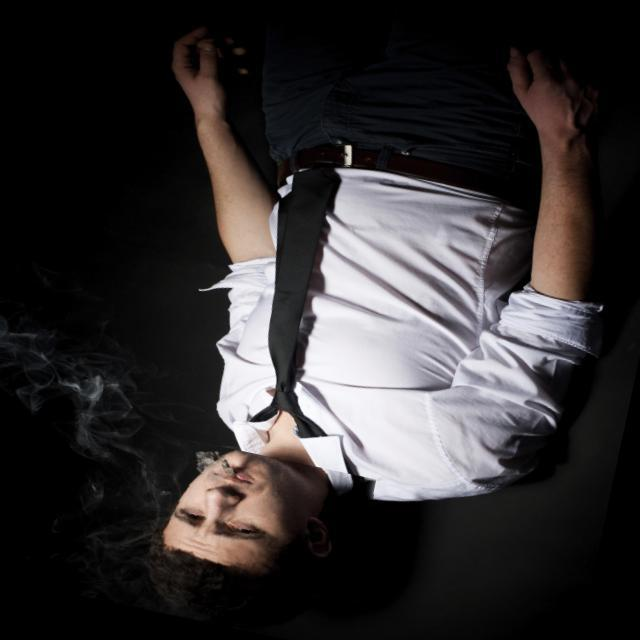cigarette: (207, 446, 267, 501)
